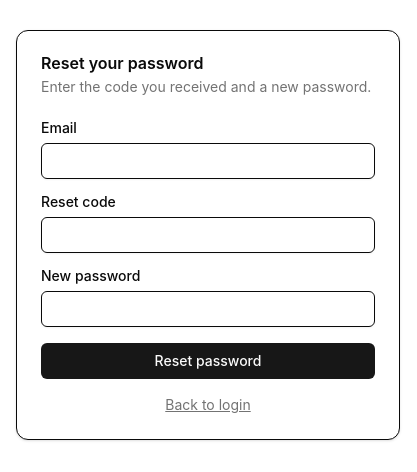
Test case: ResetPasswordPage › Invalid or already-used OTP shows a distinct message
Type "a@b.com" into the field labelled "Email" at (208, 161), box [41, 143, 375, 179]
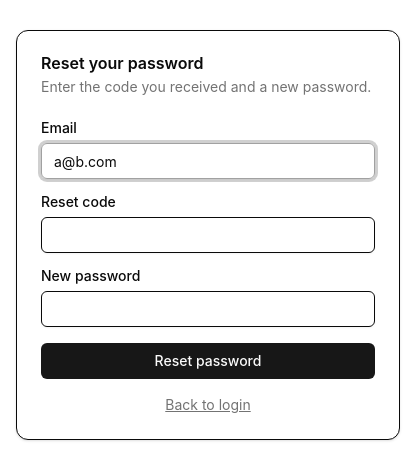
Type "123456" into the field labelled "Reset code" at (208, 235), box [41, 217, 375, 253]
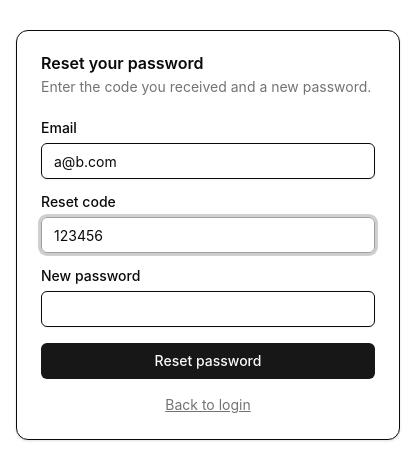
Type "Password1" into the password field labelled "New password" at (208, 309), box [41, 291, 375, 327]
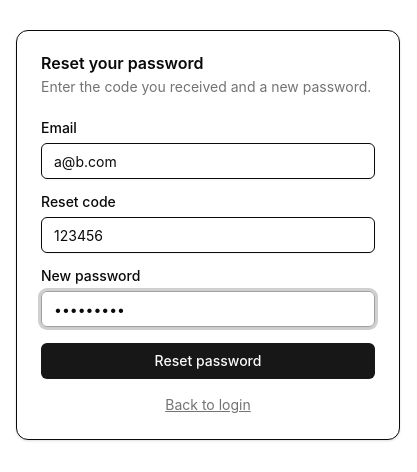
Click the button "Reset password" at (208, 361), box [41, 343, 375, 379]
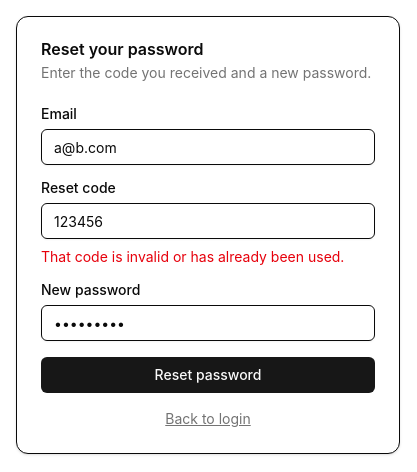
Expected: the text "That code is invalid or has already been used." is shown, [41, 247, 375, 267]
